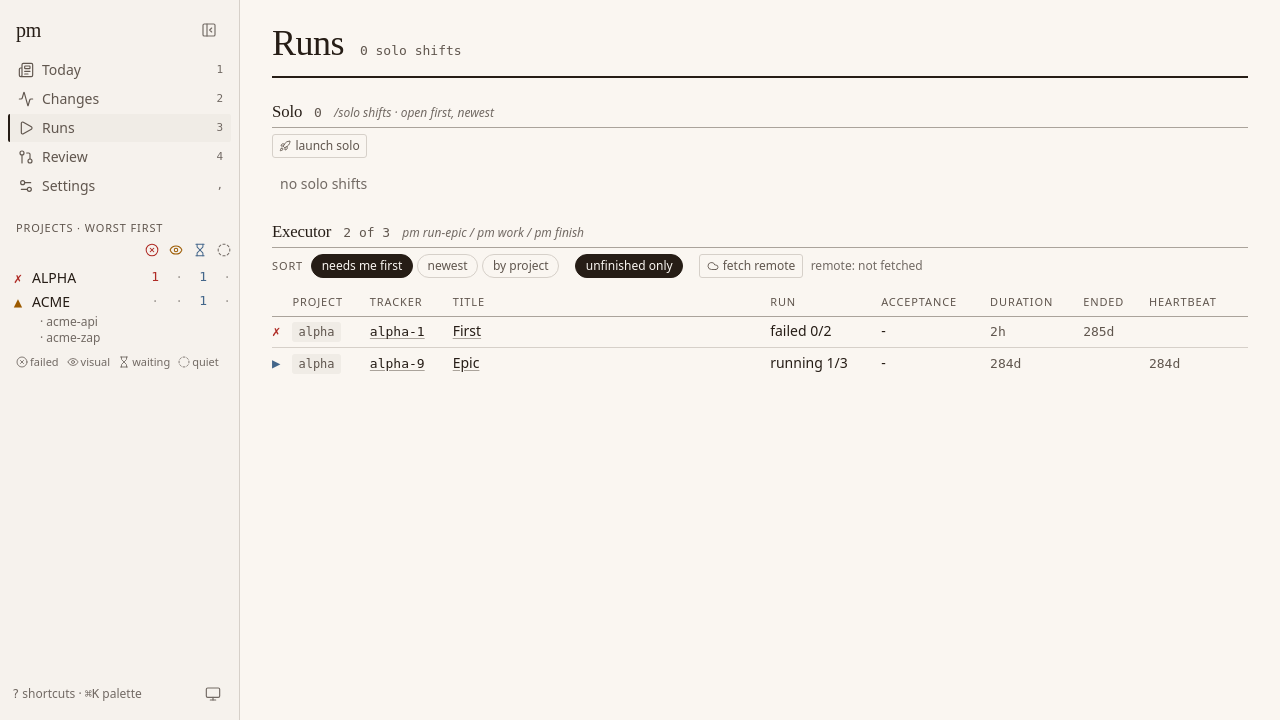
Test: runs › defaults to unfinished only, needs-me first, with the three times; remote rows only after an explicit fetch
Check: the text "remote: not fetched" is shown, box [811, 258, 923, 274]
Click the button "unfinished only" at (629,266), box [575, 254, 683, 278]
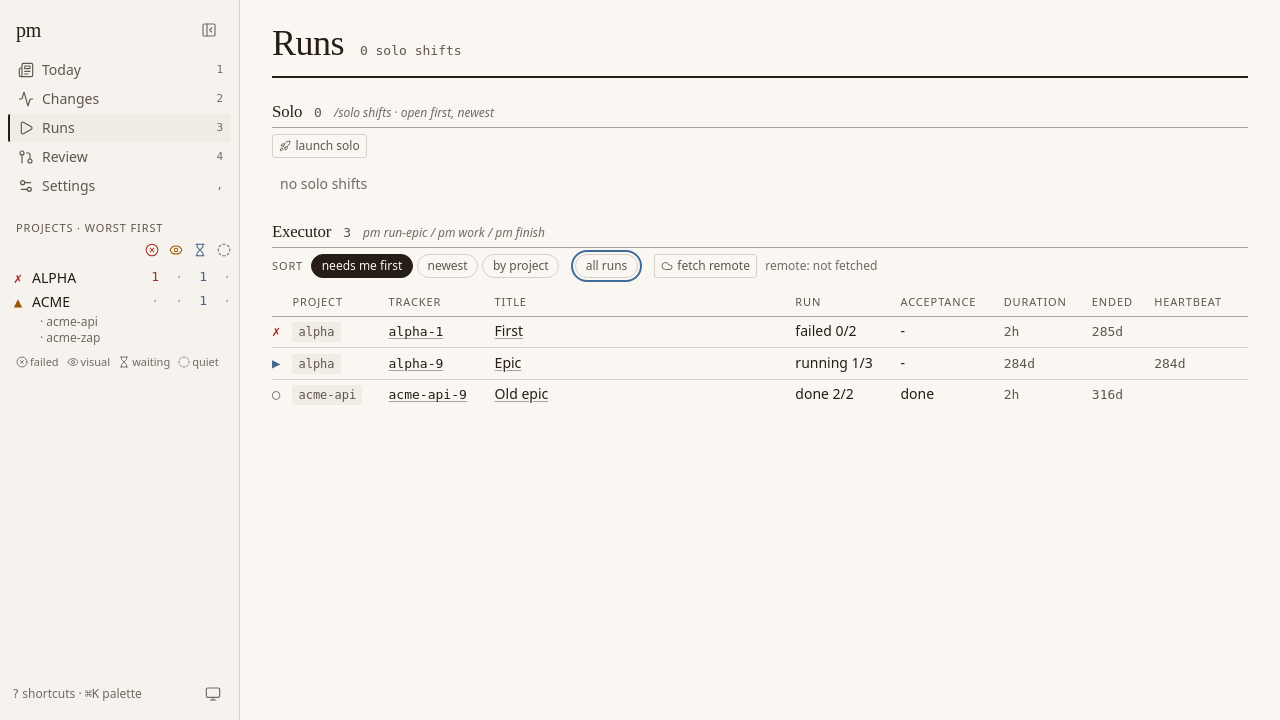
Click the button "newest" at (448,266), box [417, 254, 478, 278]
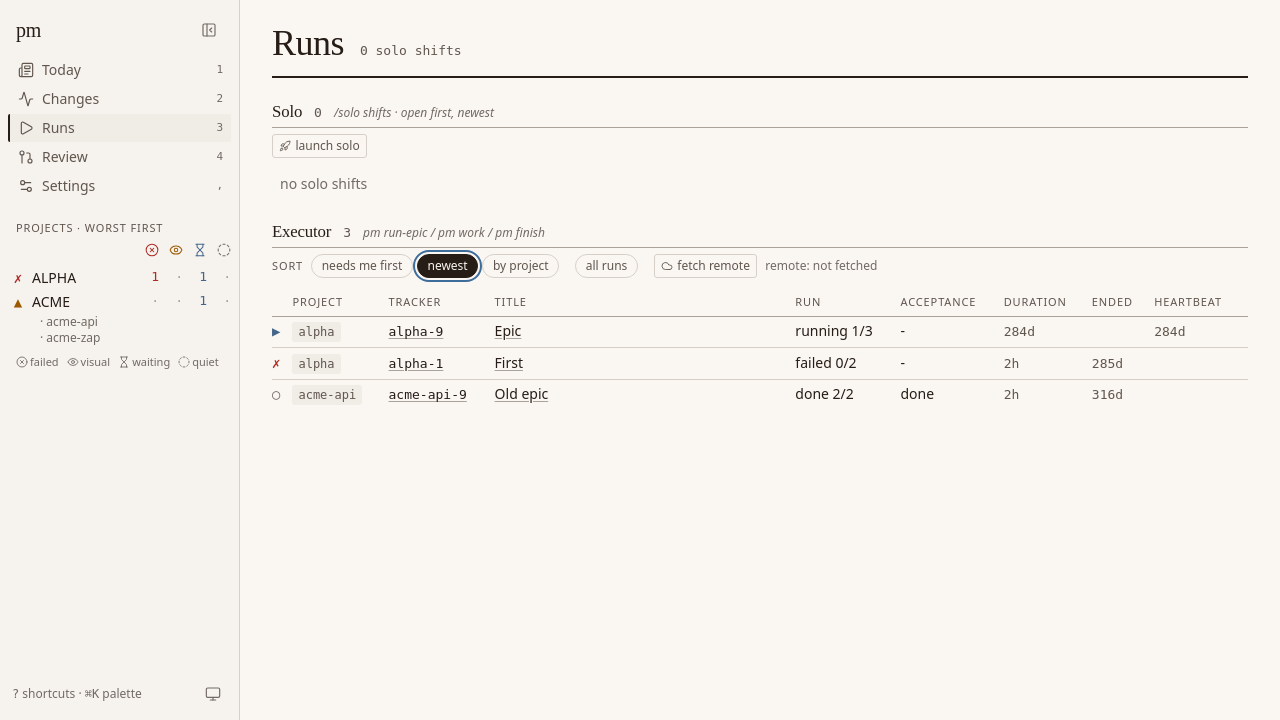
Click the button "by project" at (521,266), box [482, 254, 559, 278]
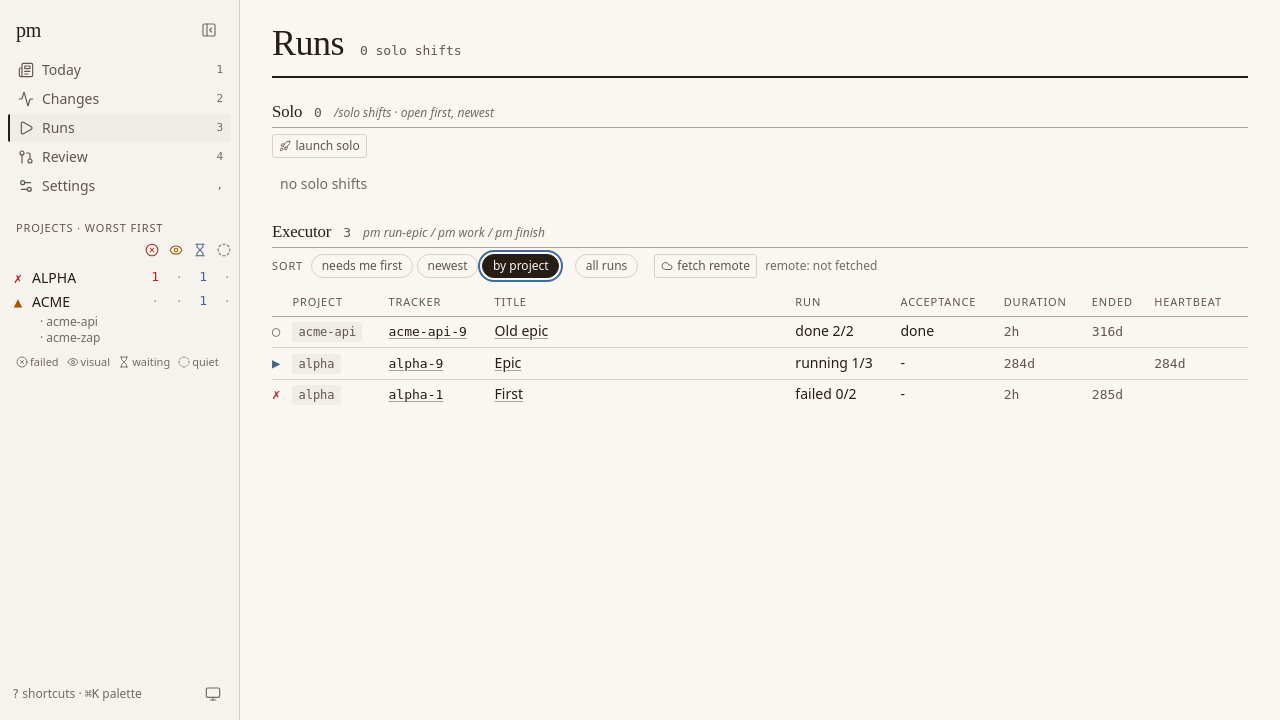
Click the button "fetch remote" at (706,266), box [654, 254, 757, 278]
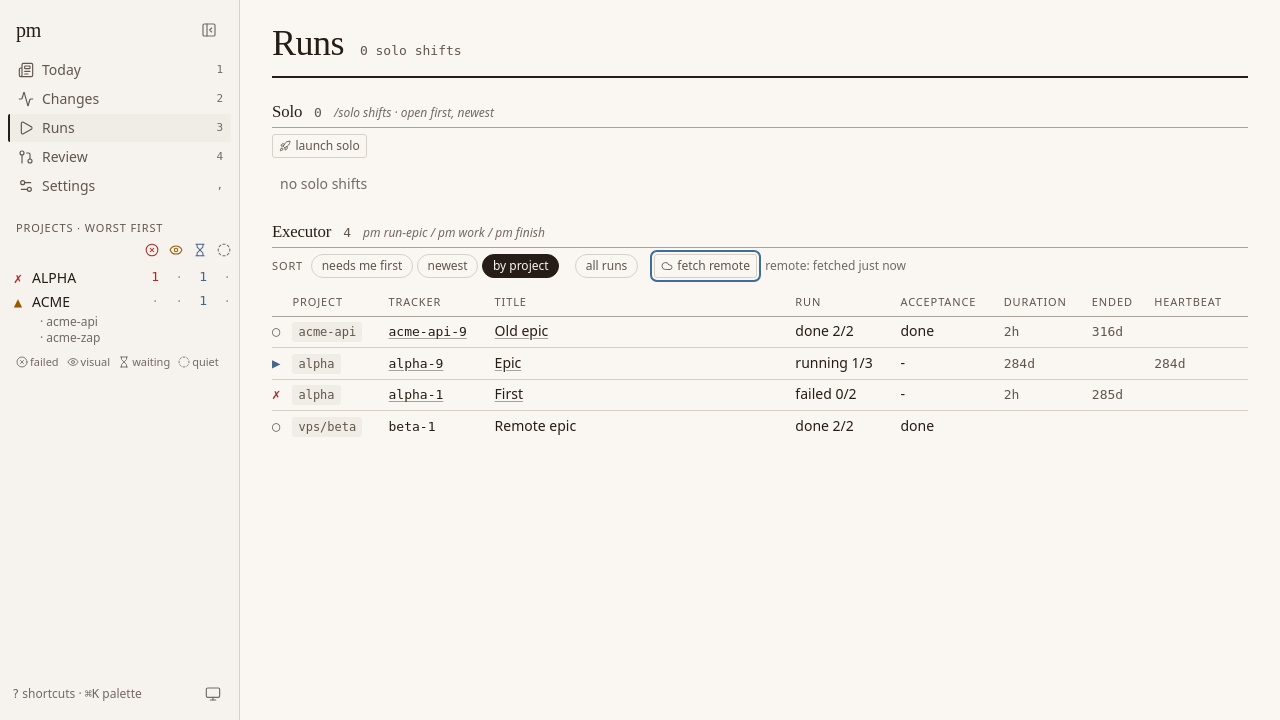
Check: the text "vps/beta" is shown, box [292, 417, 362, 437]
Check: the text "done 2/2" is shown 2 times, box [795, 316, 900, 348]; [795, 411, 900, 442]
Check: the text "remote: fetched just now" is shown, box [765, 258, 906, 274]
